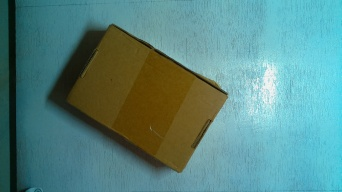a: (63, 20, 229, 176)
